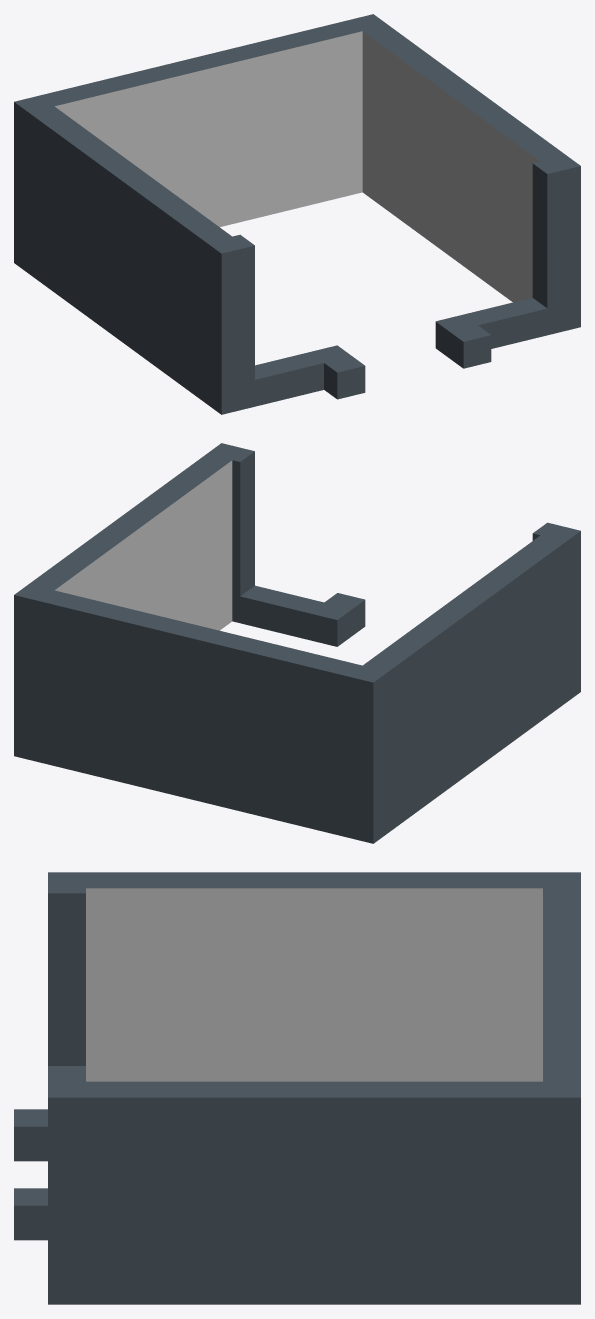
The model's file is Room01_e01.FBX.
3 renders of one model, top to bottom at view 1: azimuth 30°, elevation 25°; view 2: azimuth 150°, elevation 25°; view 3: azimuth 270°, elevation 25°, orthographic. The views are drawn at different scales.
Visible parts, largest first — view 1: Room01_e01; view 2: Room01_e01; view 3: Room01_e01.
Boxes of the visible parts, <box> form: Room01_e01: <box>14,14,580,414</box>; Room01_e01: <box>14,443,580,843</box>; Room01_e01: <box>14,872,580,1304</box>.
Size of the model in its own units: 700 by 300 by 745.
